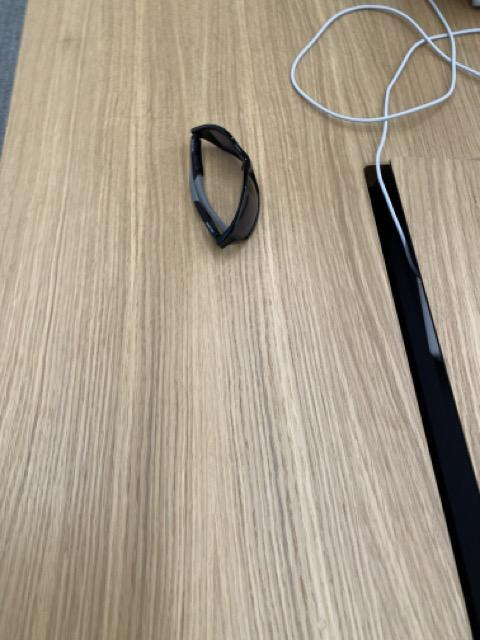Sunglasses: (188, 122, 262, 250)
